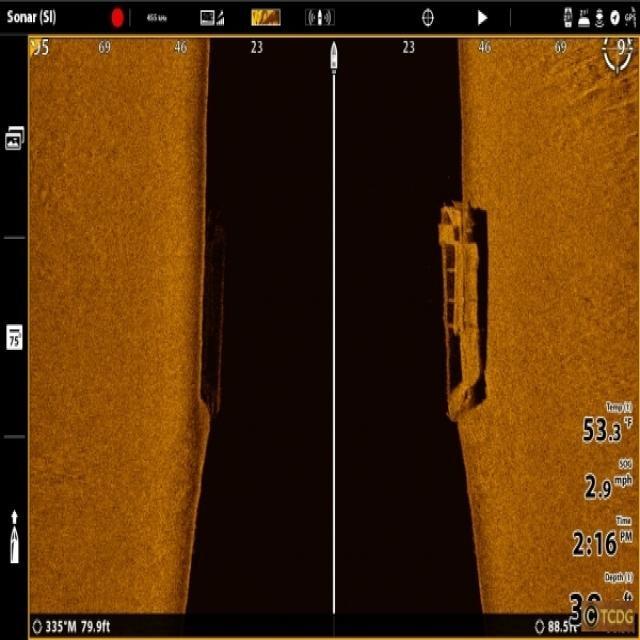ship: (436, 195, 486, 423)
